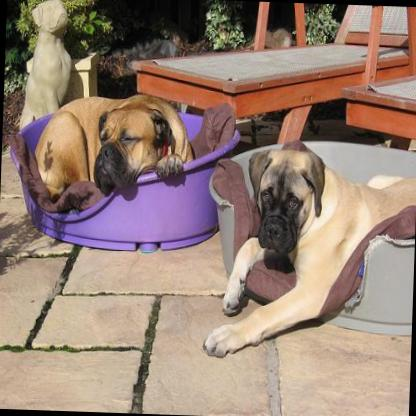bull_mastiff: (199, 134, 416, 369), (32, 88, 197, 205)
